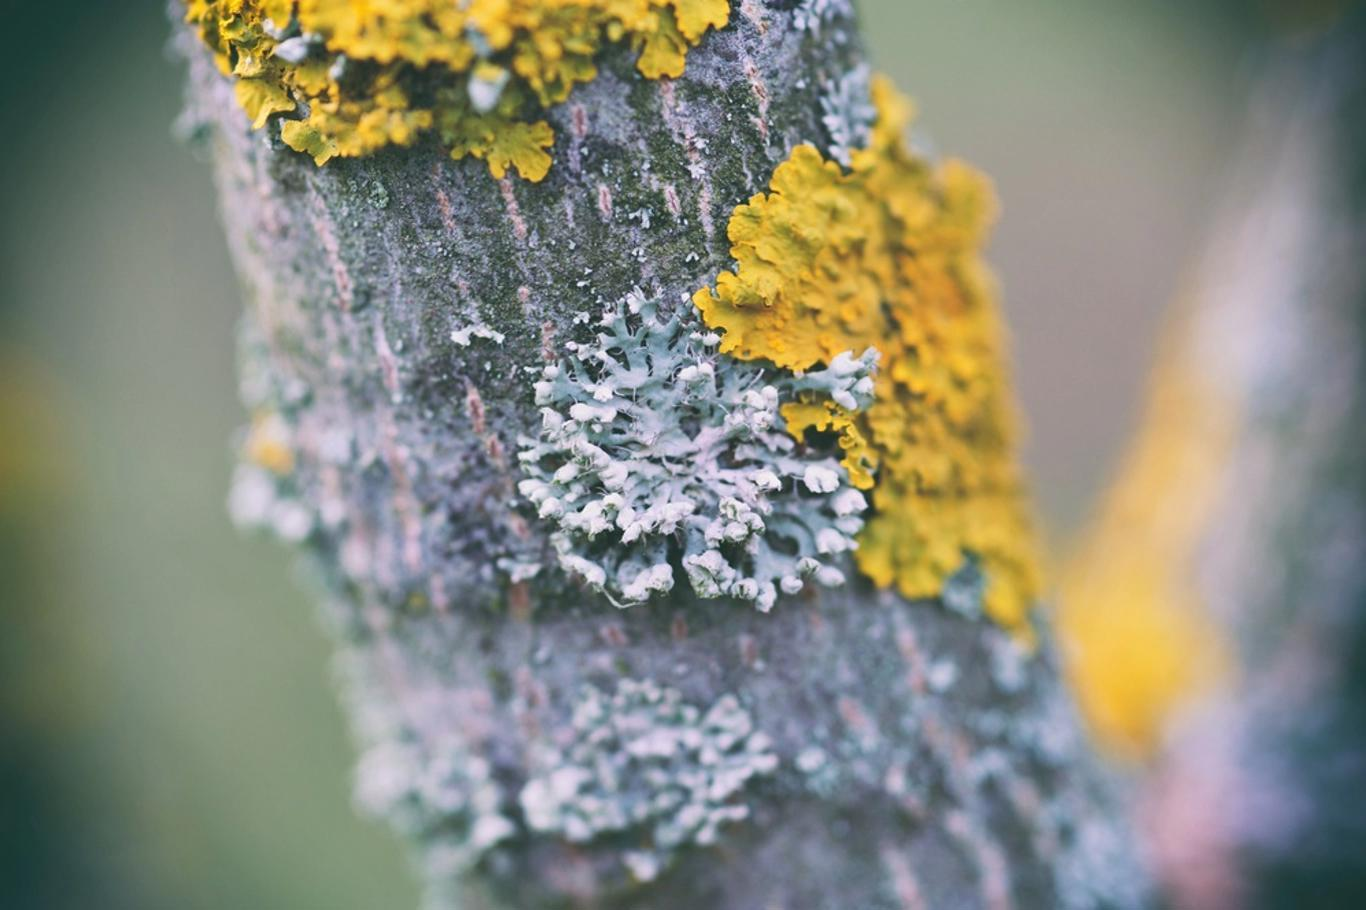lichen: (694, 79, 1038, 623), (518, 288, 877, 612), (183, 0, 729, 181), (520, 679, 777, 881)
